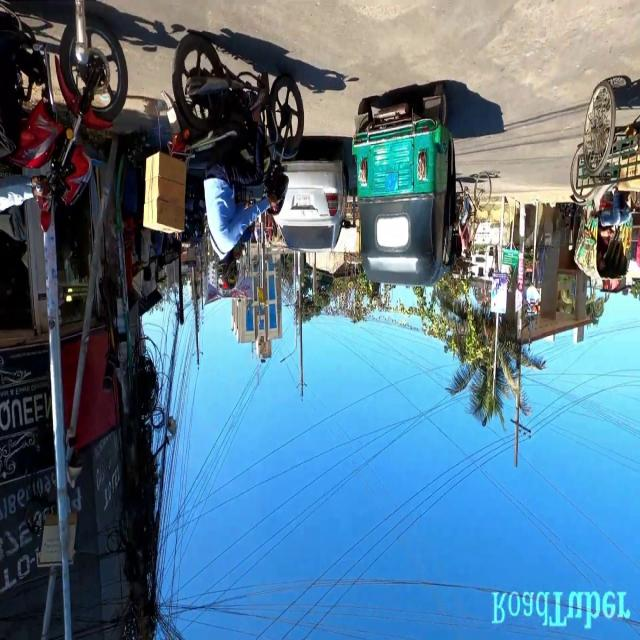white: (276, 127, 351, 256)
